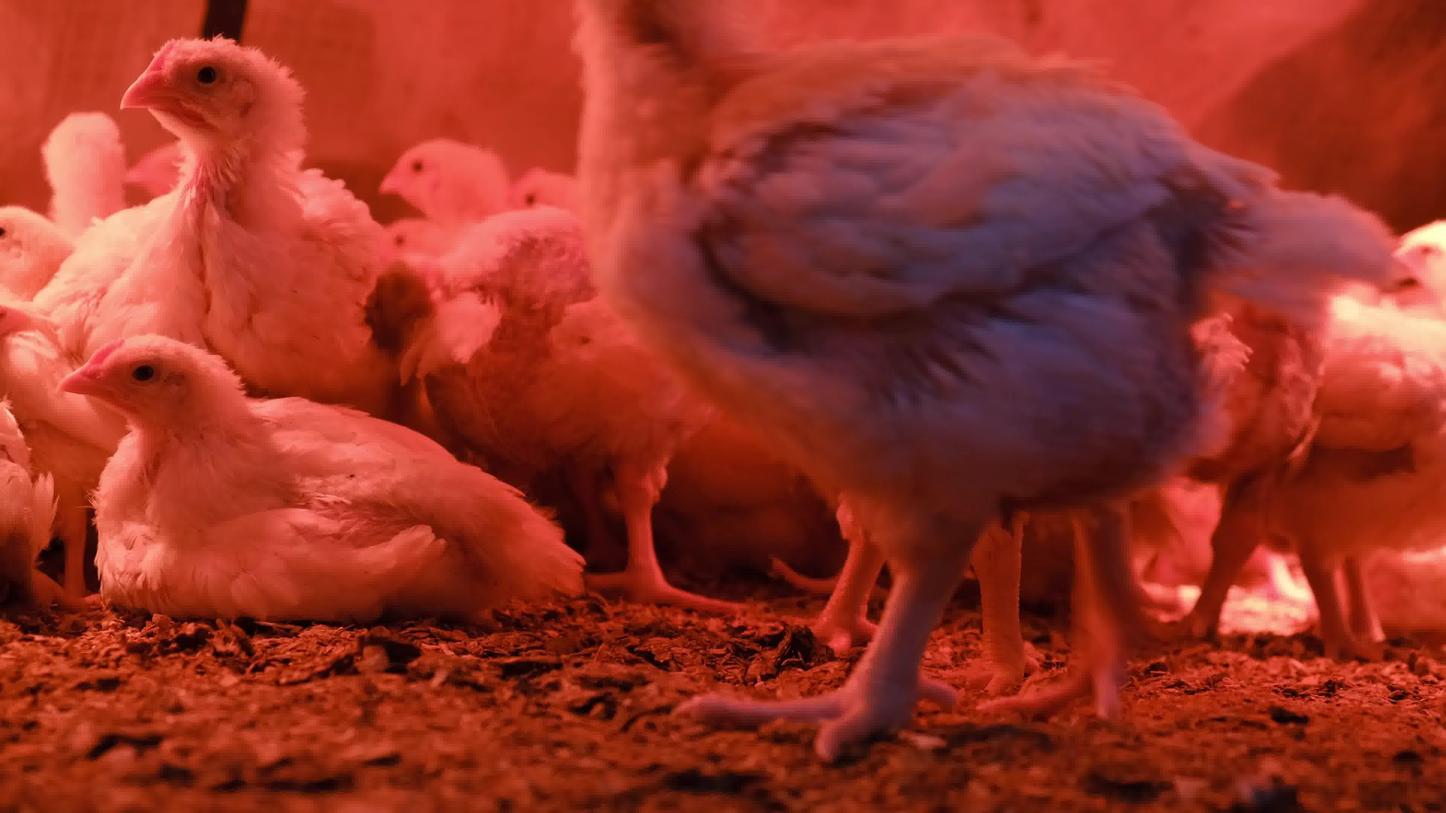AbNormal: (57, 333, 584, 616), (0, 301, 42, 607)
Normal: (577, 0, 1394, 756), (42, 32, 411, 413), (441, 226, 759, 606), (1170, 220, 1446, 655), (2, 204, 123, 596), (381, 136, 513, 228), (43, 108, 128, 250), (504, 160, 584, 226)
